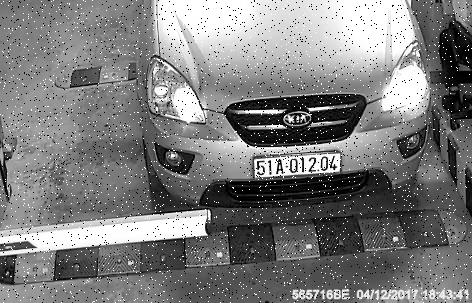License-plate: (252, 148, 346, 190)
